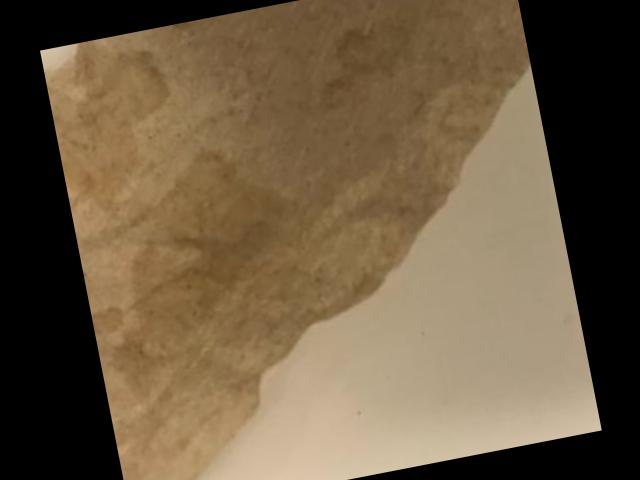cardboard paper: (43, 0, 529, 480)
